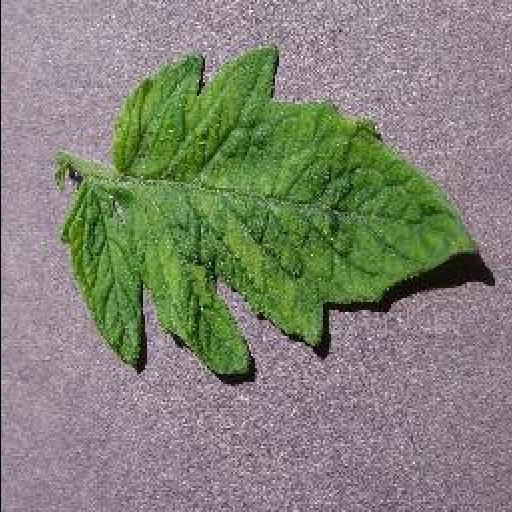Mosaic Virus: (60, 42, 482, 378)
